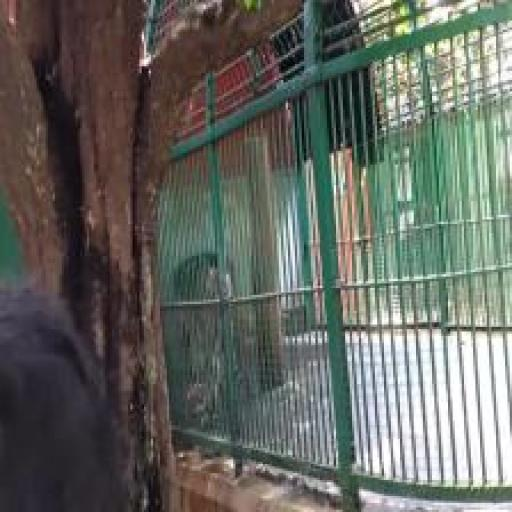Tiger: (167, 249, 260, 410)
